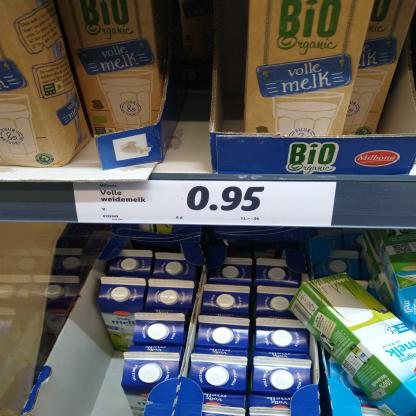prtg: (96, 181, 273, 226)
